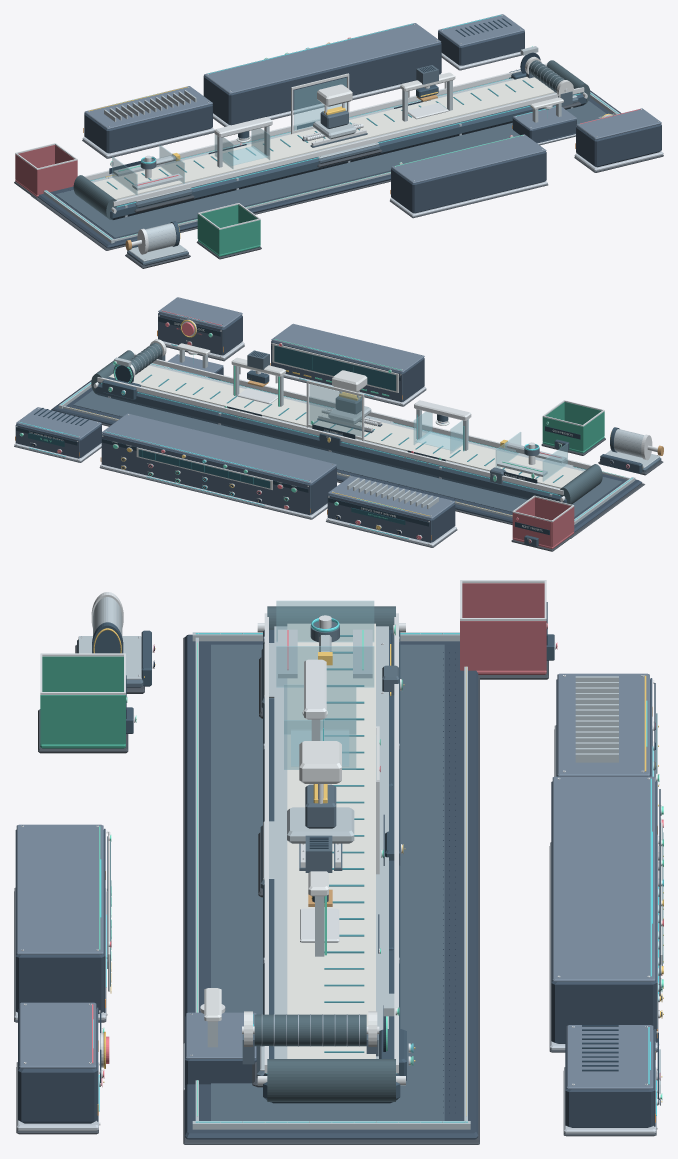
The model's file is Level50_Fitted_Assembly.fbx.
The picture shows the model from 3 angles, top to bottom: view 1: azimuth 30°, elevation 25°; view 2: azimuth 150°, elevation 25°; view 3: azimuth 270°, elevation 25°; orthographic projection. The views are drawn at different scales.
Visible parts, largest first — view 1: L50_Web_Static__webwhite, L50_Frame_Static__darksteel, L50_Controller_Static__graphite, L50_Controller_Static__mid_steel, L50_Quality_Static__graphite, L50_Web_Static__carbon, L50_Web_Static__chrome, L50_Driver_Static__graphite, L50_Quality_Static__mid_steel, L50_Good_Static__goodbin, L50_Frame_Static__graphite, L50_Safety_Static__graphite (+32 smaller); view 2: L50_Web_Static__webwhite, L50_Frame_Static__darksteel, L50_Web_Static__carbon, L50_Controller_Static__mid_steel, L50_Controller_Static__deep_steel, L50_Web_Static__chrome, L50_Quality_Static__mid_steel, L50_Frame_Static__graphite, L50_Reject_Static__badbin, L50_Good_Static__goodbin, L50_Cut_Static__glassblue, L50_Quality_Static__screenback (+39 smaller); view 3: L50_Frame_Static__darksteel, L50_Frame_Static__graphite, L50_Web_Static__webwhite, L50_Controller_Static__mid_steel, L50_Quality_Static__mid_steel, L50_Web_Static__nickel, L50_Web_Static__rubberblue, L50_Good_Static__goodbin, L50_Reject_Static__badbin, L50_Frame_Static__nickel, L50_Sort_Static__glassblue, L50_Driver_Static__mid_steel (+26 smaller).
Boxes of the visible parts, <box> form: L50_Web_Static__webwhite: <box>93,77,555,199</box>; L50_Frame_Static__darksteel: <box>55,101,606,237</box>; L50_Controller_Static__graphite: <box>204,42,441,125</box>; L50_Controller_Static__mid_steel: <box>204,23,440,93</box>; L50_Quality_Static__graphite: <box>391,151,546,213</box>; L50_Web_Static__carbon: <box>110,93,586,219</box>; L50_Web_Static__chrome: <box>84,63,587,213</box>; L50_Driver_Static__graphite: <box>84,104,212,153</box>; L50_Quality_Static__mid_steel: <box>391,134,546,183</box>; L50_Good_Static__goodbin: <box>197,204,260,256</box>; L50_Frame_Static__graphite: <box>37,90,621,248</box>; L50_Safety_Static__graphite: <box>576,124,661,167</box>; L50_Web_Static__webwhite: <box>109,365,583,488</box>; L50_Frame_Static__darksteel: <box>73,390,622,516</box>; L50_Web_Static__carbon: <box>94,383,566,503</box>; L50_Controller_Static__mid_steel: <box>102,413,336,486</box>; L50_Controller_Static__deep_steel: <box>101,434,310,515</box>; L50_Web_Static__chrome: <box>93,353,591,501</box>; L50_Quality_Static__mid_steel: <box>271,323,424,372</box>; L50_Frame_Static__graphite: <box>51,380,642,532</box>; L50_Reject_Static__badbin: <box>512,497,574,549</box>; L50_Good_Static__goodbin: <box>542,402,604,453</box>; L50_Cut_Static__glassblue: <box>309,384,361,436</box>; L50_Quality_Static__screenback: <box>274,345,396,390</box>; L50_Frame_Static__darksteel: <box>211,644,444,1120</box>; L50_Frame_Static__graphite: <box>185,634,478,1139</box>; L50_Web_Static__webwhite: <box>287,623,375,1058</box>; L50_Controller_Static__mid_steel: <box>552,776,655,981</box>; L50_Quality_Static__mid_steel: <box>16,824,107,1014</box>; L50_Web_Static__nickel: <box>274,626,388,1058</box>; L50_Web_Static__rubberblue: <box>267,606,395,1101</box>; L50_Good_Static__goodbin: <box>40,656,125,748</box>; L50_Reject_Static__badbin: <box>460,583,546,674</box>; L50_Frame_Static__nickel: <box>192,632,470,1129</box>; L50_Sort_Static__glassblue: <box>276,600,374,687</box>; L50_Driver_Static__mid_steel: <box>557,673,649,776</box>.
Size of the model in its own units: 194 by 25 by 105.
